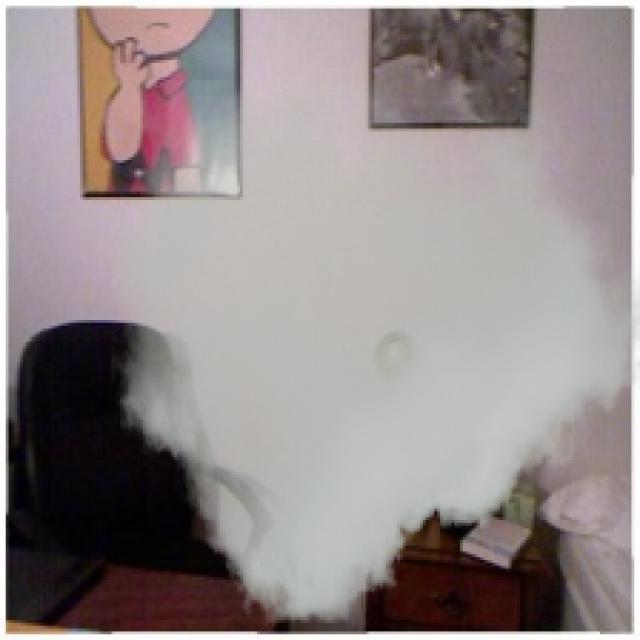Smoke: (112, 80, 638, 626)
